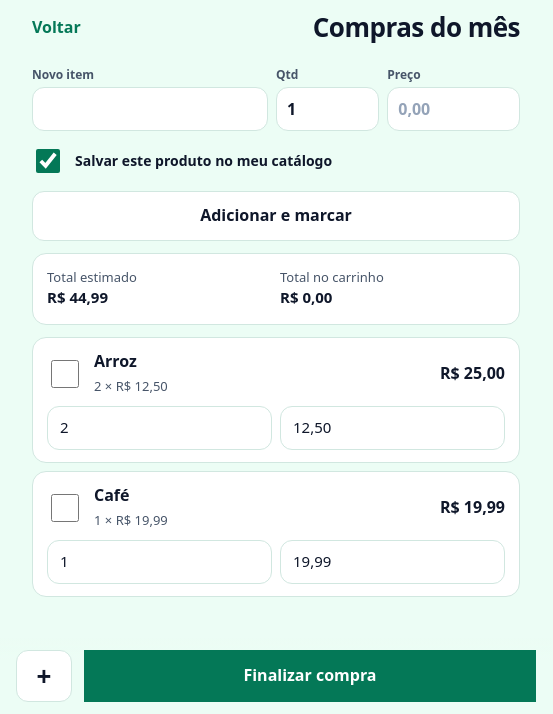
Test: CA-R25 / CA-R26: modo compra › marcar item atualiza o total do carrinho e mantém o valor final (D-005)
Expected: the text with test id "valor-final" reads "R$ 44,99", [47,287,108,307]
Expected: the text with test id "no-carrinho" reads "R$ 0,00", [280,287,332,307]
Click the checkbox labelled "Arroz 2 × R$ 12,50 R$ 25,00" at (65, 374), box [51,360,79,388]
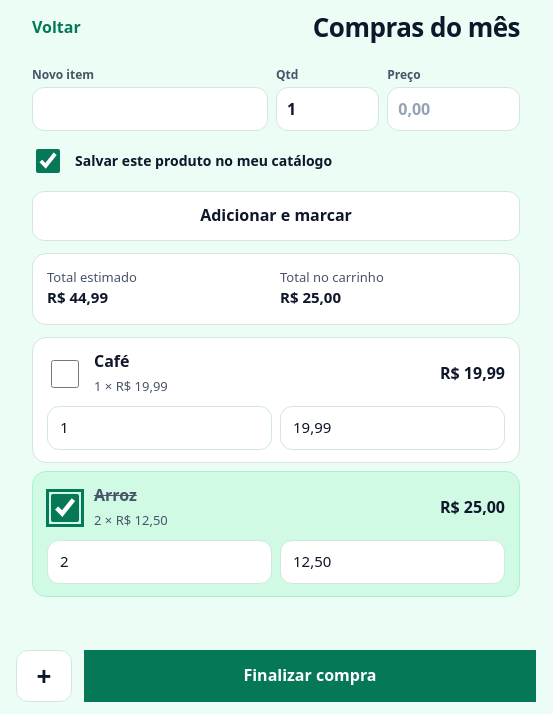
Expected: the text with test id "valor-final" reads "R$ 44,99", [47,287,108,307]
Expected: the text with test id "no-carrinho" reads "R$ 25,00", [280,287,341,307]
